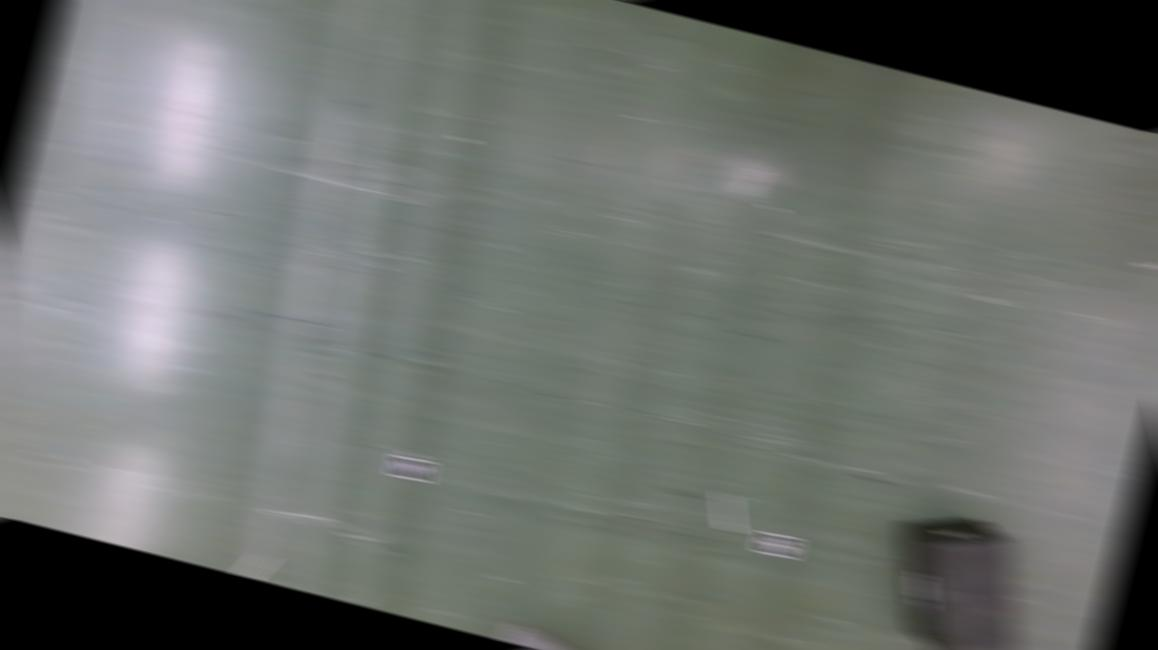probes: (712, 490, 744, 530), (237, 550, 271, 581)
rako: (872, 498, 1048, 650)
